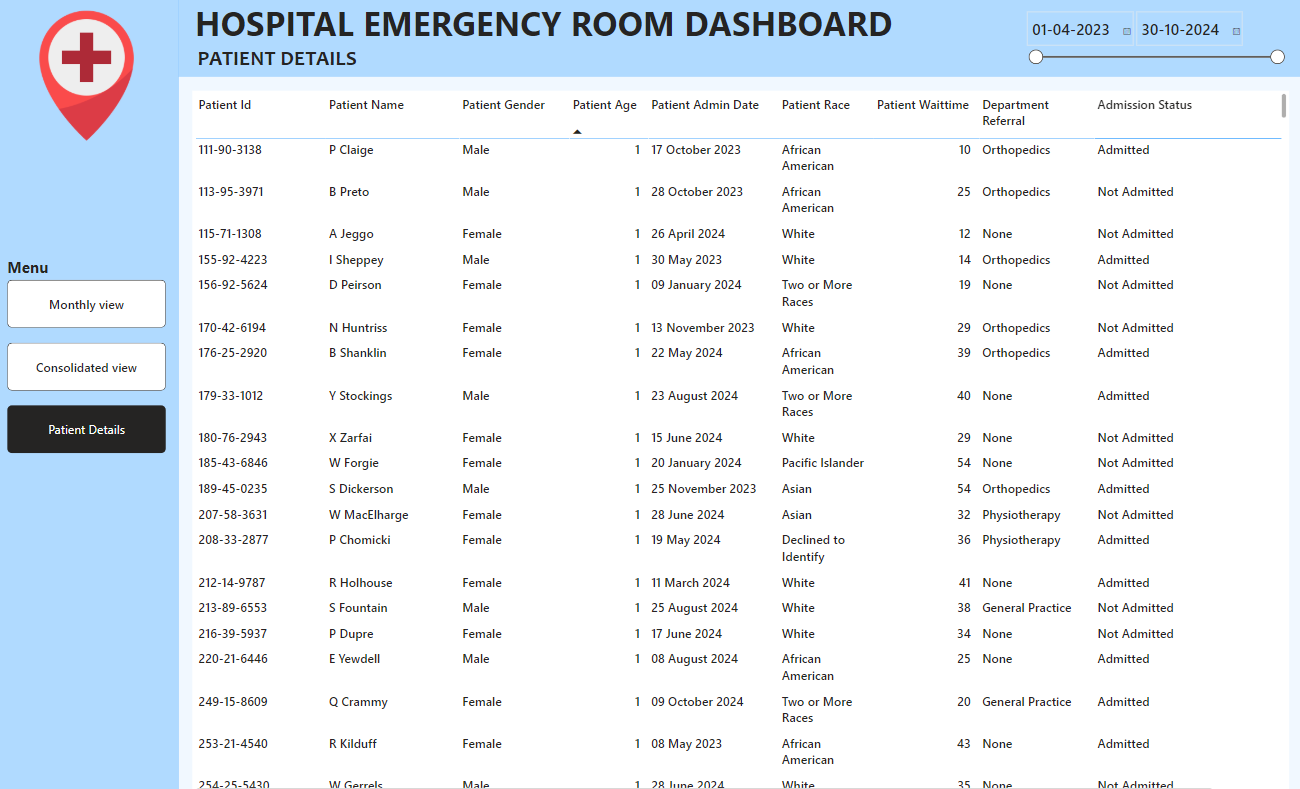

The dashboard page shown, as its layout file describes it:
{"tool":"powerbi","page":{"name":"Patient Details","canvas":[2300,1400],"ordinal":2},"visuals":[{"type":"shape","box":[0,0,321,1400.5],"z":0},{"type":"shape","box":[321,0,1978.3,140.3],"z":1000},{"type":"textbox","box":[344.8,0,1279.2,109.4],"z":2000},{"type":"textbox","box":[349.5,78.5,458.9,61.8],"z":3000},{"type":"slicer","fields":{"Values":["Date Table.Date"]},"box":[1795.2,14.3,473.2,126],"z":4000},{"type":"tableEx","fields":{"Values":["Hospital ER_Data.Patient Id","Hospital ER_Data.Patient Full Name","Hospital ER_Data.Patient Gender","Hospital ER_Data.Patient Age","Hospital ER_Data.Patient Admin Date","Hospital ER_Data.Patient Race","Hospital ER_Data.Patient Waittime","Hospital ER_Data.Department Referral","Hospital ER_Data.Admission Status"]},"box":[344.8,164.1,1923.6,1236.4],"z":5000},{"type":"pageNavigator","title":"Menu","box":[19,456.5,278.2,347.1],"z":5001},{"type":"image","box":[9.5,7.1,299.6,261.6],"z":5002}]}

Visuals, with their boxes in screenshot pixels (x1, y1, x2, y2), scaled from the page's 2300x1400 canvas onto the 1300x789 screenshot:
shape: [0, 0, 181, 788]
shape: [181, 0, 1299, 79]
textbox: [195, 0, 918, 62]
textbox: [198, 44, 457, 79]
slicer - Date Table.Date: [1015, 8, 1282, 79]
tableEx - Hospital ER_Data.Patient Id x Hospital ER_Data.Patient Full Name: [195, 92, 1282, 788]
"Menu" pageNavigator: [11, 257, 168, 453]
image: [5, 4, 175, 151]
